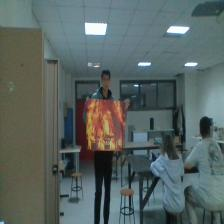fire-poster: (87, 99, 124, 150)
